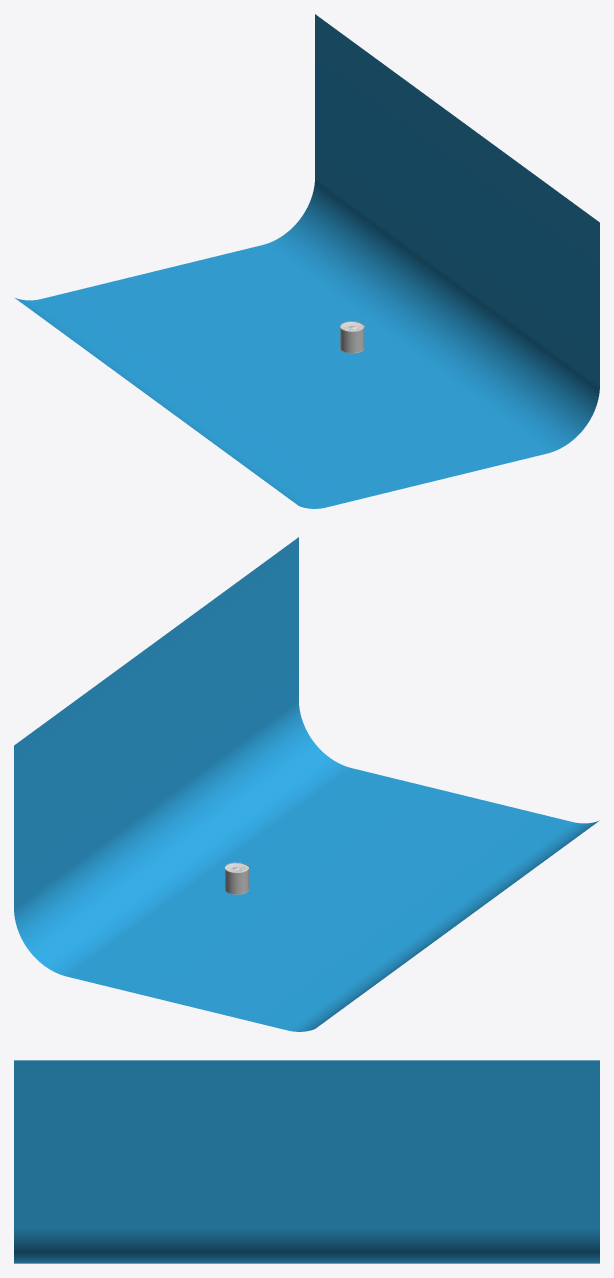
The model's file is can.fbx.
The picture shows the model from 3 angles, top to bottom: view 1: azimuth 30°, elevation 25°; view 2: azimuth 150°, elevation 25°; view 3: azimuth 270°, elevation 25°; orthographic projection. The views are drawn at different scales.
Visible parts, largest first — view 1: 1.009; view 2: 1.009; view 3: 1.009.
Part boxes in pixels (x1,y1,x2,y2): 1.009: (14,14,599,508); 1.009: (14,537,599,1031); 1.009: (14,1060,599,1263).
Size of the model in its own units: 682 by 472 by 1117.
